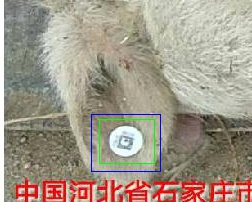text: (99, 119, 154, 163)
